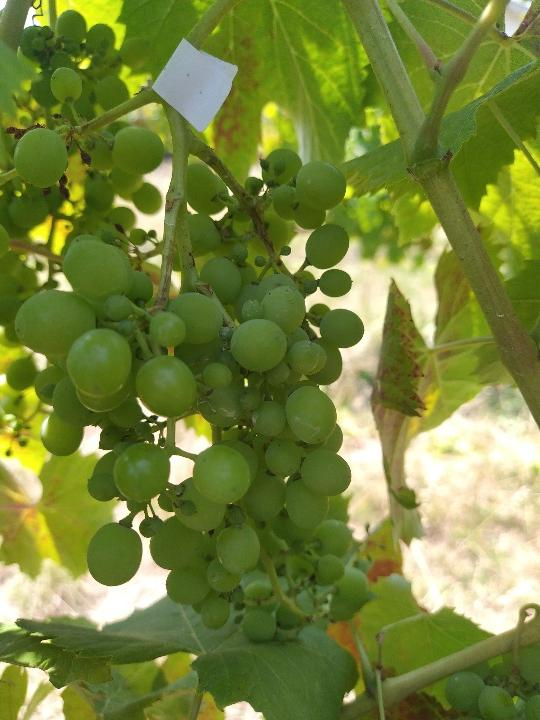grape: (14, 62, 376, 647)
